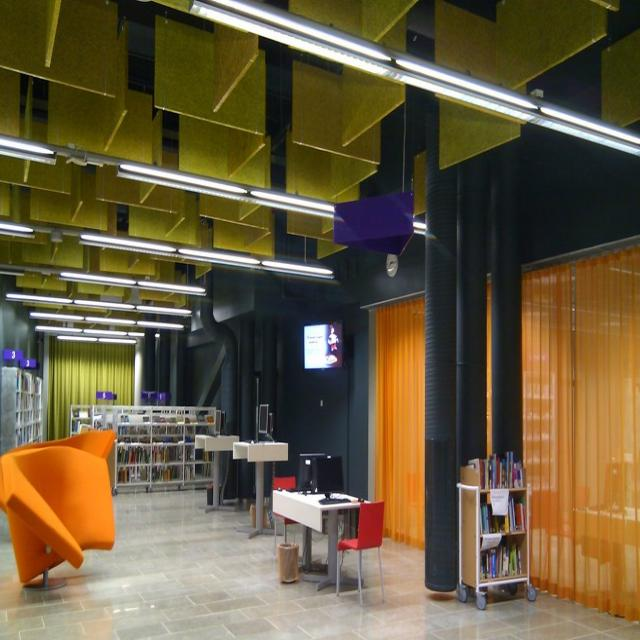chair: (336, 499, 387, 607)
desk: (270, 486, 392, 589)
tv: (303, 321, 345, 371)
